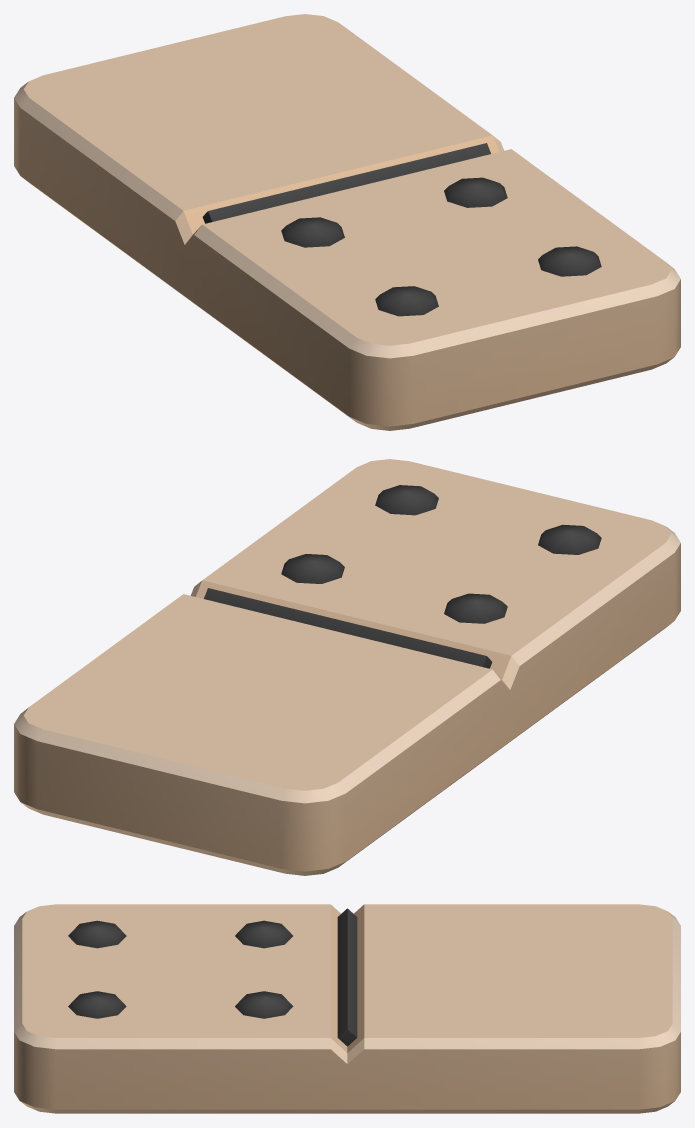
File: domino_tile_0-4.gltf
3 views of the same model, one above another, from view 1: azimuth 30°, elevation 25°; view 2: azimuth 150°, elevation 25°; view 3: azimuth 270°, elevation 25° (orthographic). The views are drawn at different scales.
Visible parts, largest first — view 1: domino_tile_0-4; view 2: domino_tile_0-4; view 3: domino_tile_0-4.
Boxes of the visible parts, x1,y1,x2,y2 form: domino_tile_0-4: (14,14,680,430); domino_tile_0-4: (14,459,680,875); domino_tile_0-4: (14,904,680,1113).
Size of the model in its own units: 1 by 0.2767 by 2.
1 material, 1 textured.
